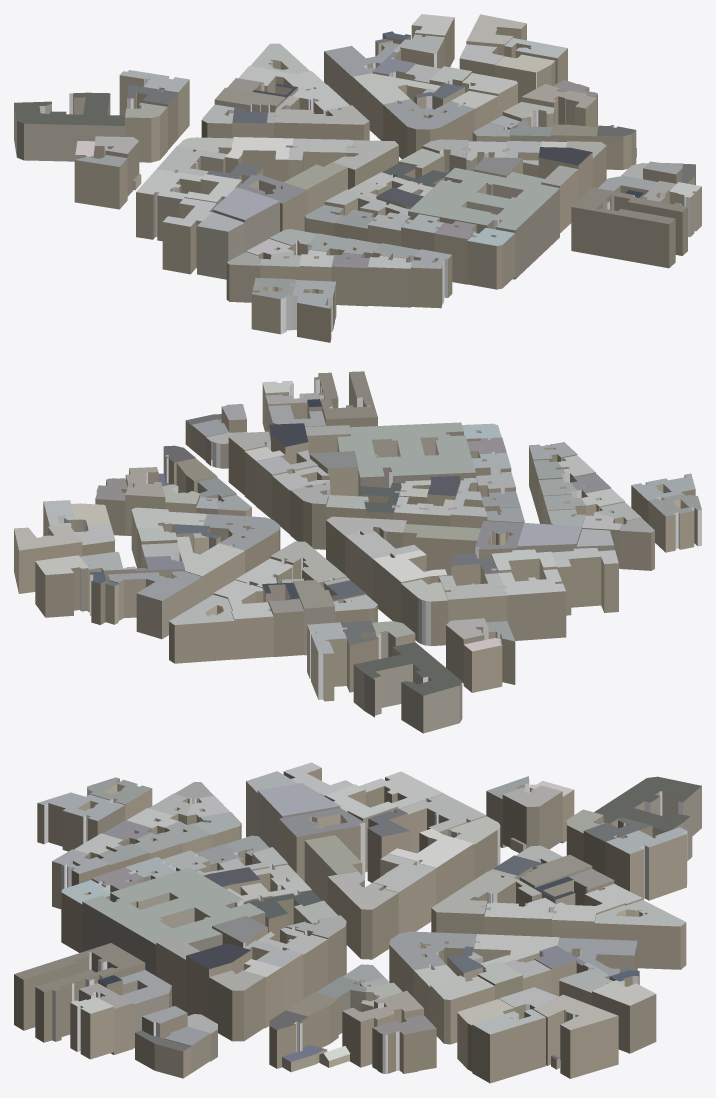
The picture shows the model from 3 angles, top to bottom: view 1: azimuth 30°, elevation 25°; view 2: azimuth 150°, elevation 25°; view 3: azimuth 270°, elevation 25°; orthographic projection. The views are drawn at different scales.
Visible parts, largest first — view 1: tuile; view 2: tuile; view 3: tuile.
Part boxes in pixels (left/top/right/bottom): tuile: left=14, top=14, right=701, bottom=342; tuile: left=14, top=371, right=701, bottom=733; tuile: left=14, top=762, right=701, bottom=1083.
Size of the model in its own units: 275 by 32.37 by 295.
